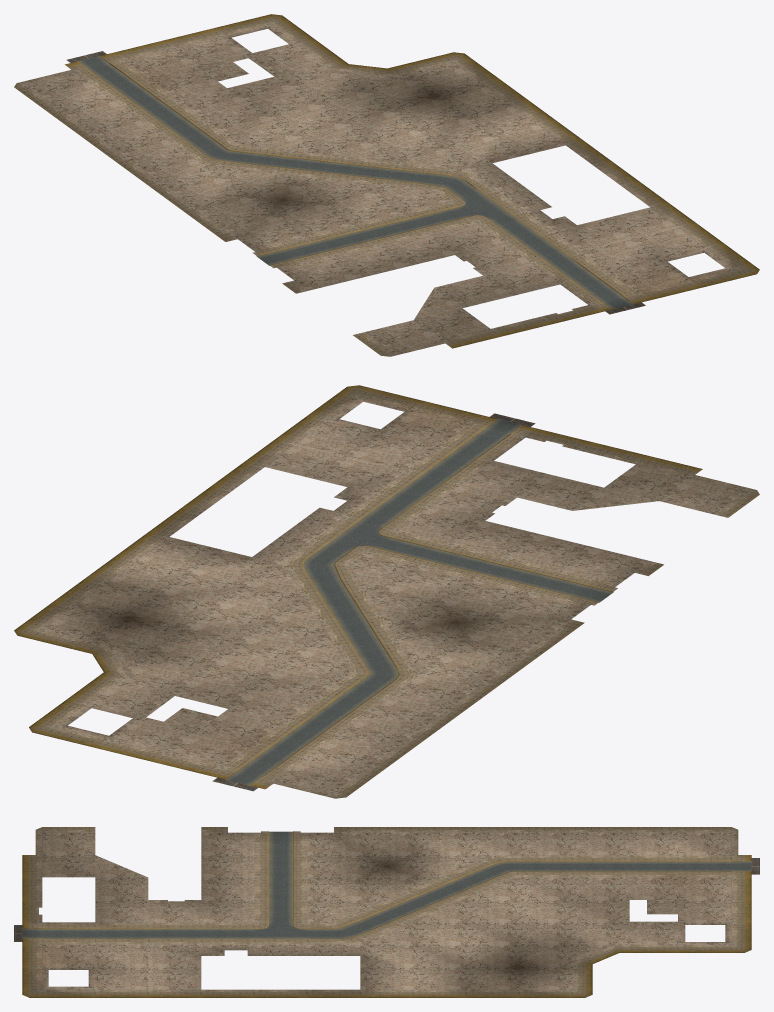
File: M11Z1_Floor_B.glb
The picture shows the model from 3 angles, top to bottom: view 1: azimuth 30°, elevation 25°; view 2: azimuth 150°, elevation 25°; view 3: azimuth 270°, elevation 25°; orthographic projection. The views are drawn at different scales.
Visible parts, largest first — view 1: M11Z1_FLOOR_B076, M11Z1_FLOOR_B070, M11Z1_FLOOR_B056, M11Z1_FLOOR_B044, M11Z1_FLOOR_B063, M11Z1_FLOOR_B038, M11Z1_FLOOR_B052, M11Z1_FLOOR_B060, M11Z1_FLOOR_B084, M11Z1_FLOOR_B090, M11Z1_FLOOR_B019, M11Z1_FLOOR_B092 (+77 smaller); view 2: M11Z1_FLOOR_B076, M11Z1_FLOOR_B070, M11Z1_FLOOR_B044, M11Z1_FLOOR_B056, M11Z1_FLOOR_B063, M11Z1_FLOOR_B060, M11Z1_FLOOR_B052, M11Z1_FLOOR_B038, M11Z1_FLOOR_B084, M11Z1_FLOOR_B090, M11Z1_FLOOR_B013, M11Z1_FLOOR_B019 (+87 smaller); view 3: M11Z1_FLOOR_B076, M11Z1_FLOOR_B044, M11Z1_FLOOR_B070, M11Z1_FLOOR_B056, M11Z1_FLOOR_B063, M11Z1_FLOOR_B060, M11Z1_FLOOR_B052, M11Z1_FLOOR_B038, M11Z1_FLOOR_B090, M11Z1_FLOOR_B084, M11Z1_FLOOR_B013, M11Z1_FLOOR_B019 (+90 smaller).
Part boxes in pixels (box(x1,y1,x2,y2)): M11Z1_FLOOR_B076: box(71, 114, 173, 169); M11Z1_FLOOR_B070: box(211, 110, 312, 156); M11Z1_FLOOR_B056: box(369, 128, 467, 174); M11Z1_FLOOR_B044: box(196, 196, 276, 243); M11Z1_FLOOR_B063: box(287, 119, 390, 165); M11Z1_FLOOR_B038: box(272, 205, 356, 254); M11Z1_FLOOR_B052: box(168, 176, 244, 230); M11Z1_FLOOR_B060: box(139, 155, 215, 210); M11Z1_FLOOR_B084: box(43, 93, 131, 145); M11Z1_FLOOR_B090: box(15, 72, 102, 125); M11Z1_FLOOR_B019: box(555, 219, 629, 272); M11Z1_FLOOR_B092: box(126, 49, 200, 101); M11Z1_FLOOR_B076: box(341, 699, 472, 750); M11Z1_FLOOR_B070: box(263, 637, 382, 688); M11Z1_FLOOR_B044: box(468, 601, 584, 653); M11Z1_FLOOR_B056: box(216, 564, 333, 610); M11Z1_FLOOR_B063: box(240, 601, 358, 646); M11Z1_FLOOR_B060: box(405, 654, 536, 700); M11Z1_FLOOR_B052: box(437, 631, 568, 676); M11Z1_FLOOR_B038: box(445, 575, 573, 617); M11Z1_FLOOR_B084: box(310, 724, 427, 773); M11Z1_FLOOR_B090: box(278, 747, 395, 796); M11Z1_FLOOR_B013: box(352, 424, 470, 461); M11Z1_FLOOR_B019: box(320, 447, 438, 485); M11Z1_FLOOR_B076: box(520, 827, 624, 854); M11Z1_FLOOR_B044: box(307, 827, 412, 854); M11Z1_FLOOR_B070: box(467, 869, 572, 899); M11Z1_FLOOR_B056: box(361, 912, 465, 944); M11Z1_FLOOR_B063: box(414, 888, 518, 922); M11Z1_FLOOR_B060: box(414, 827, 518, 854); M11Z1_FLOOR_B052: box(361, 827, 465, 854); M11Z1_FLOOR_B038: box(281, 844, 359, 877); M11Z1_FLOOR_B090: box(626, 827, 730, 854); M11Z1_FLOOR_B084: box(573, 827, 677, 854); M11Z1_FLOOR_B013: box(42, 939, 147, 966); M11Z1_FLOOR_B019: box(95, 939, 200, 966).
Size of the model in its own units: 61 by 0.2 by 112.
Materials: 8 (8 with a texture image).
